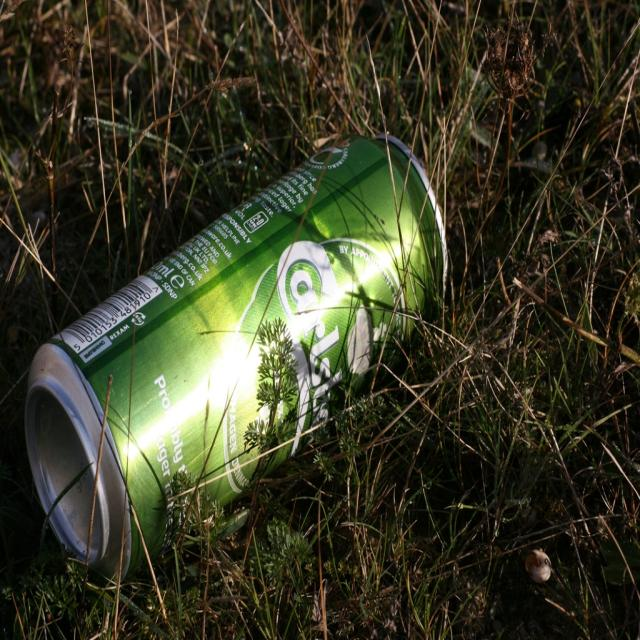carlsberg: (218, 236, 411, 501)
